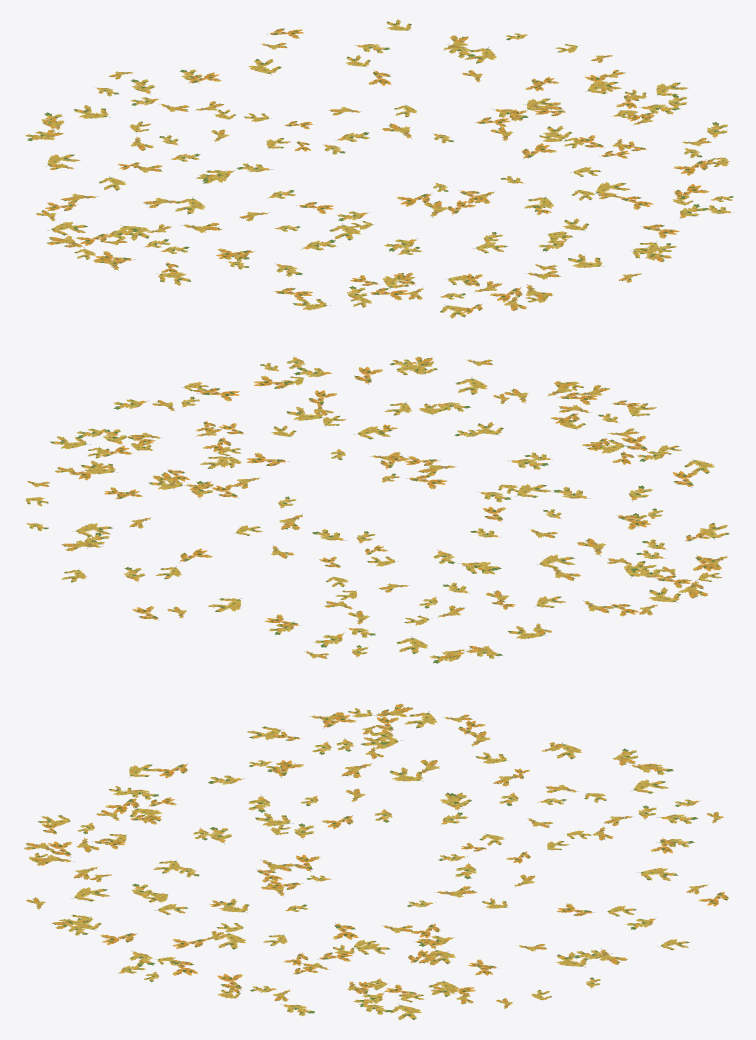
Rendered from bouleau_adulte_b.fbx.
The picture shows the model from 3 angles, top to bottom: view 1: azimuth 30°, elevation 25°; view 2: azimuth 150°, elevation 25°; view 3: azimuth 270°, elevation 25°; orthographic projection.
Visible parts, largest first — view 1: bouleau_adulte_b_feuilles_sol; view 2: bouleau_adulte_b_feuilles_sol; view 3: bouleau_adulte_b_feuilles_sol.
Part boxes in pixels (box(x1,y1,x2,y2)): bouleau_adulte_b_feuilles_sol: box(25, 19, 733, 318); bouleau_adulte_b_feuilles_sol: box(23, 356, 729, 663); bouleau_adulte_b_feuilles_sol: box(24, 703, 728, 1019).
Size of what is drawn, in the model's own units: 7.08 by 0.00596 by 6.74.
